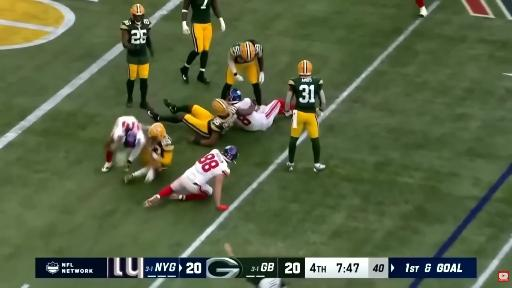Helmet: (212, 99, 229, 116), (148, 123, 166, 139), (240, 42, 255, 61), (131, 4, 145, 23), (222, 146, 238, 162), (123, 130, 137, 148), (228, 88, 242, 104), (298, 60, 312, 76)
Jersey: (184, 150, 230, 185), (121, 19, 151, 64), (289, 77, 323, 112), (111, 116, 145, 146), (208, 106, 236, 135), (230, 42, 262, 63), (236, 112, 264, 130), (191, 0, 212, 23), (152, 135, 173, 157)
Player: (144, 146, 238, 210), (148, 99, 246, 146), (285, 60, 325, 171), (180, 0, 225, 84), (121, 4, 153, 109), (125, 123, 173, 182), (221, 40, 264, 105), (102, 116, 146, 171), (228, 89, 283, 131), (416, 0, 427, 17)
